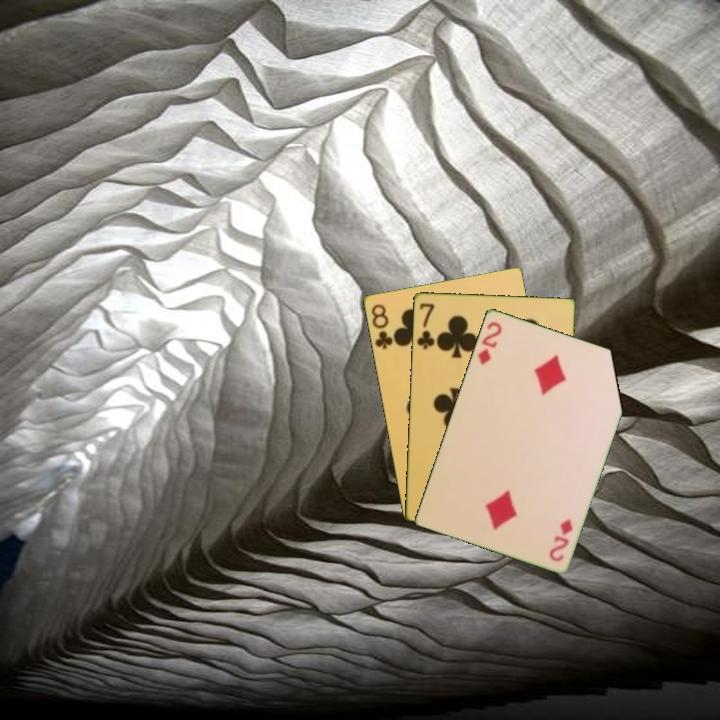2d: (474, 318, 505, 368), (545, 515, 576, 564)
7c: (413, 299, 437, 352)
8c: (367, 300, 395, 352)
